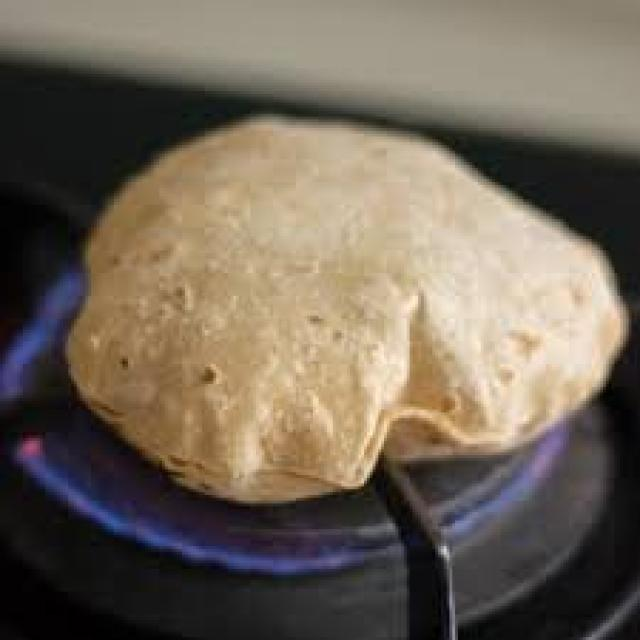CHAPATHI: (65, 117, 628, 511)
